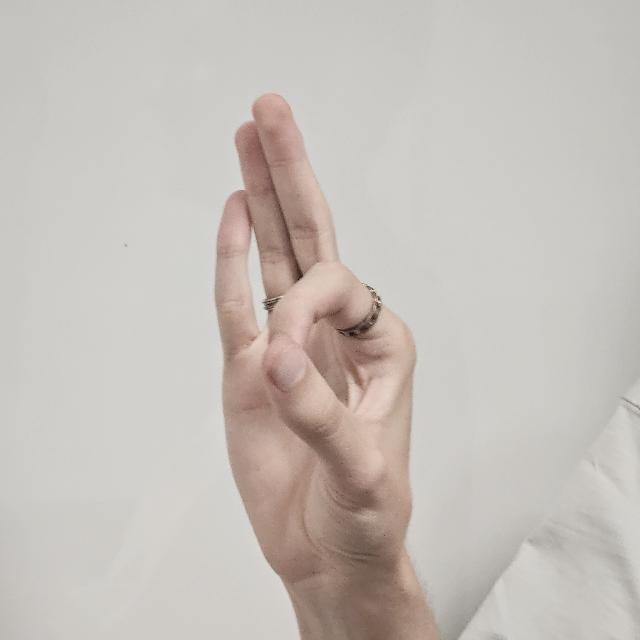Bolinha: (197, 76, 449, 604)
